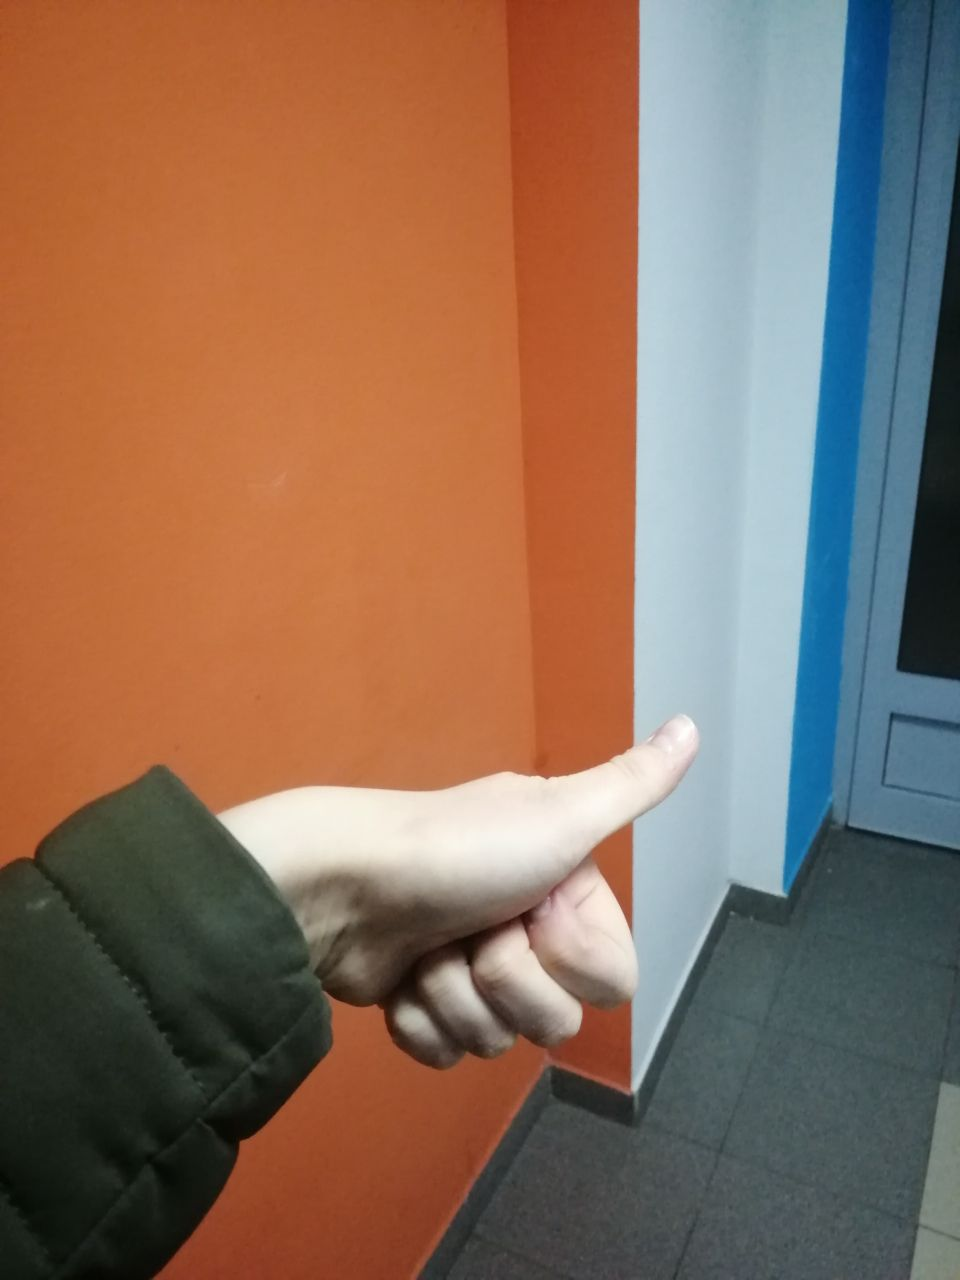hand: (364, 735, 679, 1057)
